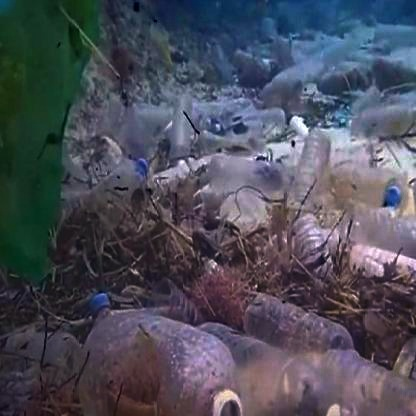pbottle: (85, 284, 181, 408), (256, 281, 343, 378), (194, 321, 263, 416), (359, 158, 416, 244), (87, 148, 159, 204), (294, 126, 326, 244)
